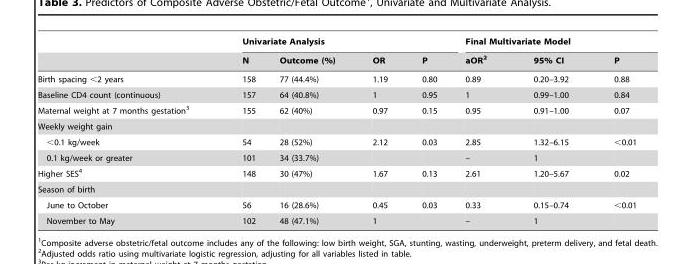table: (37, 36, 636, 225)
table column: (37, 36, 214, 225), (266, 36, 353, 225), (509, 36, 590, 225), (450, 36, 509, 225), (214, 36, 266, 225), (353, 36, 404, 225), (404, 36, 450, 225), (590, 36, 636, 225)
table column header: (37, 36, 636, 69)
table projected row header: (37, 118, 636, 134), (37, 181, 636, 197)
table row: (37, 49, 636, 69), (37, 69, 636, 86), (37, 101, 636, 118), (37, 164, 636, 181), (37, 118, 636, 134), (37, 181, 636, 197), (37, 86, 636, 101), (37, 134, 636, 149), (37, 149, 636, 164), (37, 197, 636, 212), (37, 36, 636, 49), (37, 212, 636, 225)
table spanning cell: (214, 36, 450, 49), (450, 36, 636, 49)
